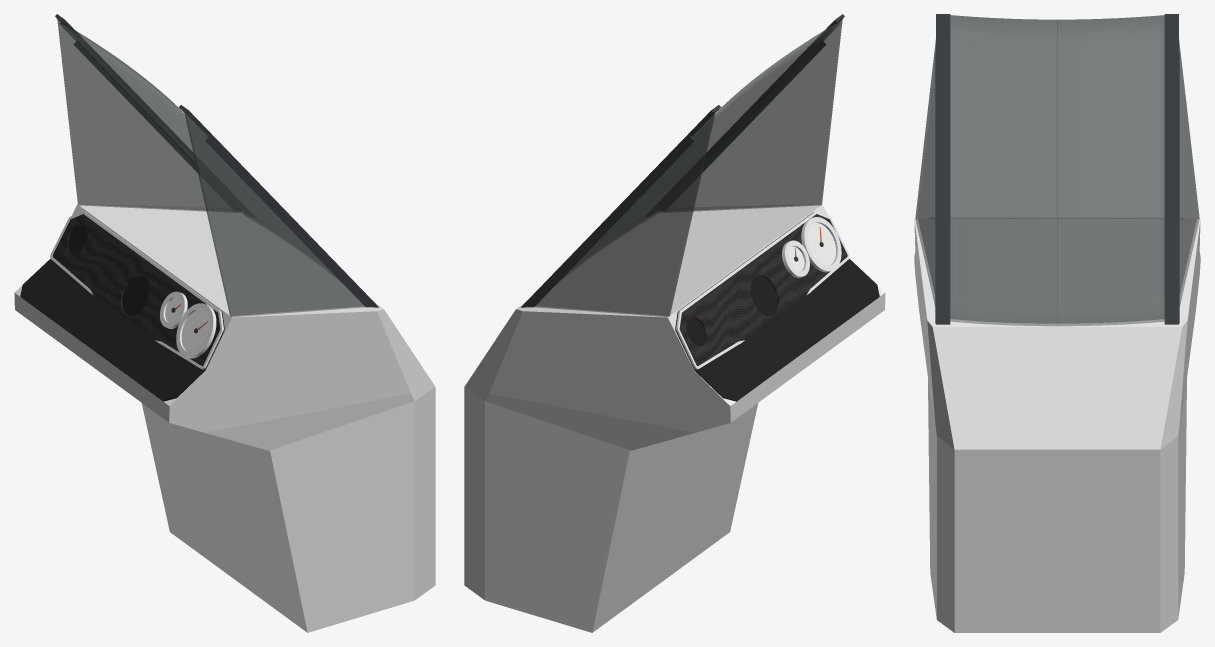
The model's file is console-egoist-base.glb.
The picture shows the model from 3 angles, left to right: view 1: azimuth 30°, elevation 25°; view 2: azimuth 150°, elevation 25°; view 3: azimuth 270°, elevation 25°; orthographic projection. The views are drawn at different scales.
Visible parts, largest first — view 1: xs_lux_body, xs_lux_glass_sides_p, xs_lux_glass_sides_s, xs_lux_dash_lower, xs_lux_dash_wood, xs_lux_glass_front, xs_lux_posts, xs_lux_dash_pod, xs_lux_gauges, xs_lux_dash_trim, xs_lux_trims, xs_lux_gauge_faces; view 2: xs_lux_body, xs_lux_glass_sides_s, xs_lux_glass_sides_p, xs_lux_dash_lower, xs_lux_dash_wood, xs_lux_glass_front, xs_lux_posts, xs_lux_dash_pod, xs_lux_gauges, xs_lux_dash_trim, xs_lux_trims, xs_lux_gauge_faces; view 3: xs_lux_body, xs_lux_glass_front, xs_lux_trims, xs_lux_glass_sides_p, xs_lux_glass_sides_s, xs_lux_posts, xs_lux_dash_trim.
Part boxes in pixels (x1=…): xs_lux_body: x1=14, y1=204, x2=435, y2=632; xs_lux_glass_sides_p: x1=57, y1=19, x2=240, y2=212; xs_lux_glass_sides_s: x1=184, y1=111, x2=364, y2=316; xs_lux_dash_lower: x1=20, y1=259, x2=205, y2=401; xs_lux_dash_wood: x1=52, y1=214, x2=220, y2=366; xs_lux_glass_front: x1=59, y1=22, x2=328, y2=269; xs_lux_posts: x1=74, y1=41, x2=378, y2=307; xs_lux_dash_pod: x1=68, y1=212, x2=224, y2=369; xs_lux_gauges: x1=160, y1=291, x2=216, y2=358; xs_lux_dash_trim: x1=50, y1=211, x2=223, y2=369; xs_lux_trims: x1=55, y1=14, x2=378, y2=307; xs_lux_gauge_faces: x1=165, y1=297, x2=209, y2=351; xs_lux_body: x1=464, y1=204, x2=885, y2=632; xs_lux_glass_sides_s: x1=659, y1=19, x2=842, y2=212; xs_lux_glass_sides_p: x1=535, y1=111, x2=715, y2=316; xs_lux_dash_lower: x1=694, y1=259, x2=879, y2=401; xs_lux_dash_wood: x1=679, y1=214, x2=847, y2=366; xs_lux_glass_front: x1=571, y1=22, x2=840, y2=269; xs_lux_posts: x1=521, y1=42, x2=825, y2=307; xs_lux_dash_pod: x1=675, y1=212, x2=812, y2=369; xs_lux_gauges: x1=782, y1=217, x2=841, y2=277; xs_lux_dash_trim: x1=676, y1=211, x2=849, y2=369; xs_lux_trims: x1=521, y1=14, x2=844, y2=307; xs_lux_gauge_faces: x1=788, y1=223, x2=835, y2=271; xs_lux_body: x1=914, y1=219, x2=1200, y2=632; xs_lux_glass_front: x1=950, y1=15, x2=1164, y2=326; xs_lux_trims: x1=936, y1=14, x2=1178, y2=324; xs_lux_glass_sides_p: x1=1179, y1=39, x2=1199, y2=306; xs_lux_glass_sides_s: x1=915, y1=39, x2=935, y2=304; xs_lux_posts: x1=935, y1=51, x2=1179, y2=323; xs_lux_dash_trim: x1=928, y1=217, x2=1186, y2=218.
Bounding box in the file's own units: 0.5908 × 1.07 × 0.551.
Materials: 9 (1 with a texture image).
